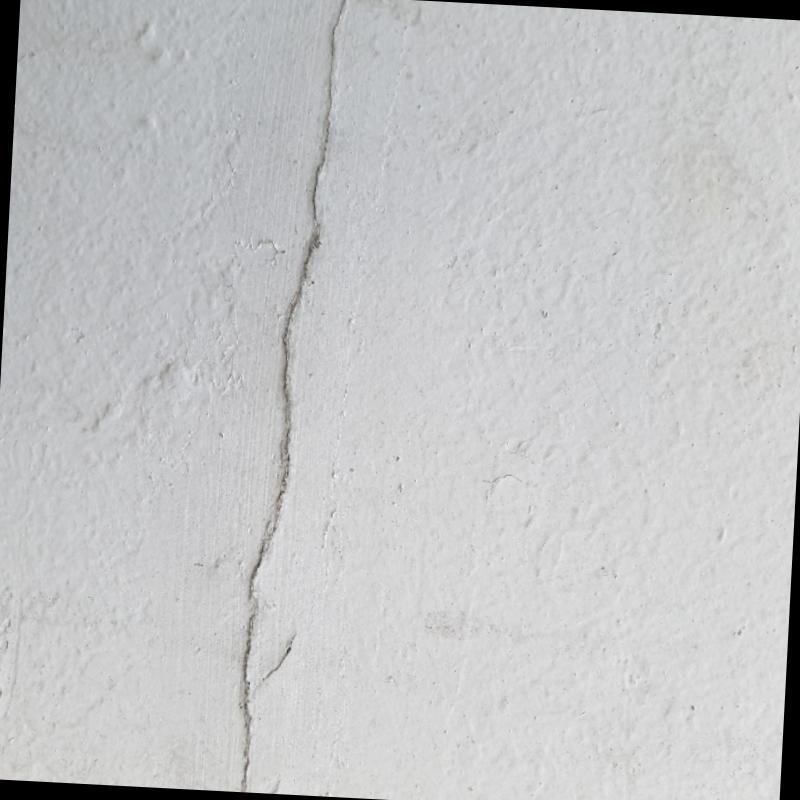pothole: (241, 0, 349, 791)
